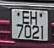0: (24, 24, 32, 40)
1: (40, 24, 45, 42)
2: (32, 24, 41, 41)
7: (16, 23, 25, 41)
E: (21, 10, 31, 26)
H: (30, 10, 39, 27)
